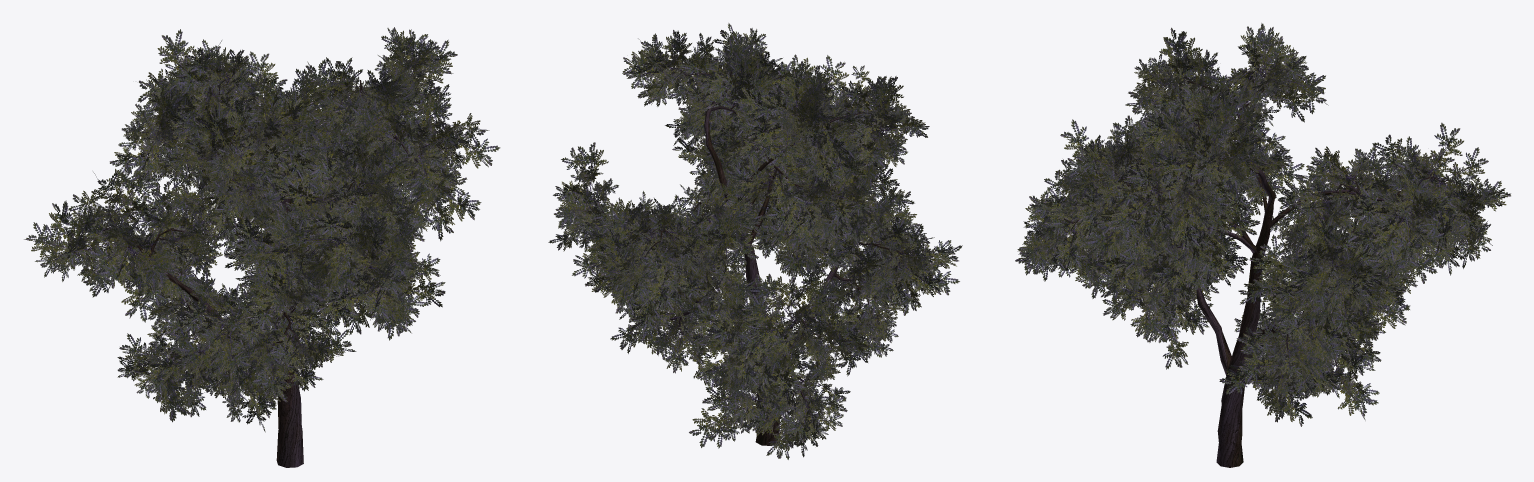
File: tree-alien.glb
3 views of the same model, side by side, from view 1: azimuth 30°, elevation 25°; view 2: azimuth 150°, elevation 25°; view 3: azimuth 270°, elevation 25° (orthographic). The views are drawn at different scales.
Parts seen in each view (by area): view 1: Tree; view 2: Tree; view 3: Tree.
Part boxes in pixels (<box>): Tree: <box>24,27,500,467</box>; Tree: <box>548,23,962,459</box>; Tree: <box>1015,23,1510,467</box>.
Bounding box in the file's own units: 63.3 × 67.82 × 76.7.
Materials: 2 (2 with a texture image).
